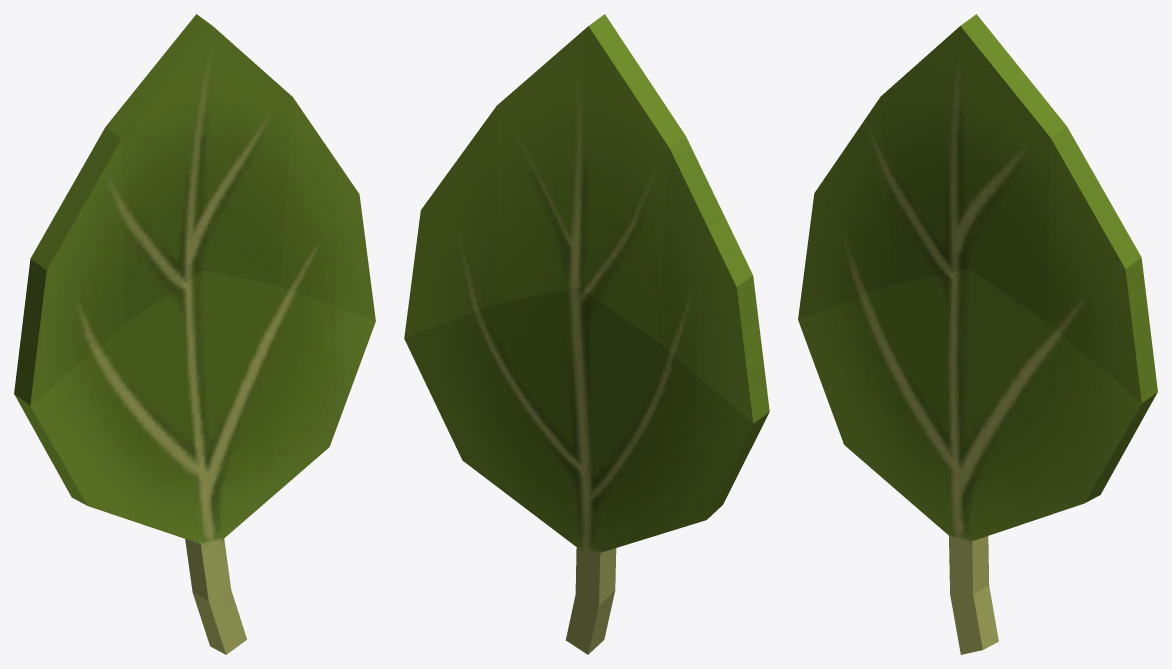
Rendered from LeafParticle.fbx.
3 renders of one model, left to right at view 1: azimuth 30°, elevation 25°; view 2: azimuth 150°, elevation 25°; view 3: azimuth 330°, elevation 25°, orthographic.
Visible parts, largest first — view 1: Cube.080; view 2: Cube.080; view 3: Cube.080.
Boxes of the visible parts, <box> form: Cube.080: <box>14,14,375,654</box>; Cube.080: <box>404,14,769,654</box>; Cube.080: <box>798,14,1157,654</box>.
Bounding box in the file's own units: 140 × 243 × 22.69.
